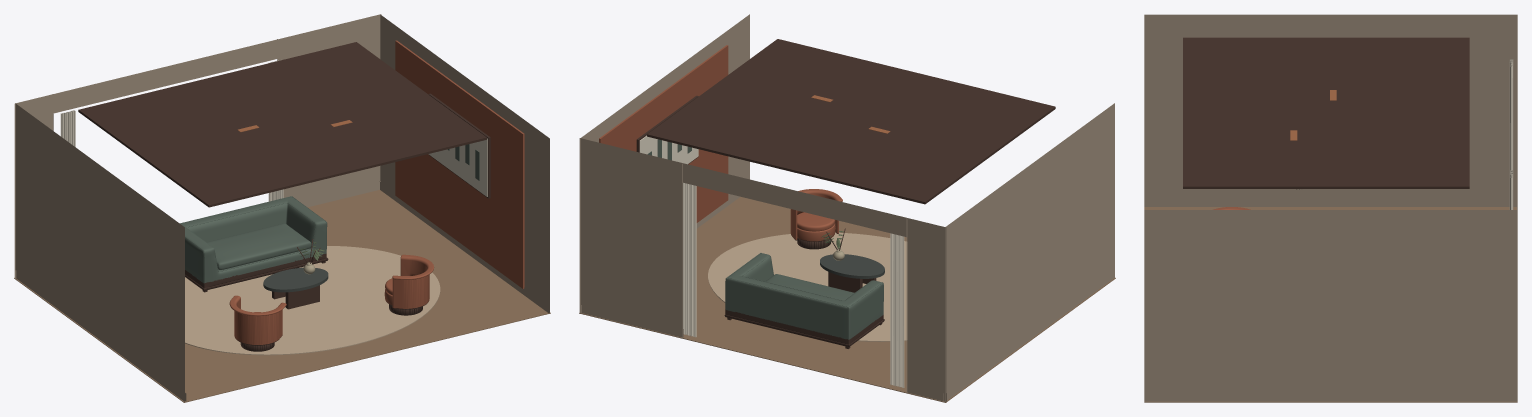
The model's file is great-2.glb.
The picture shows the model from 3 angles, left to right: view 1: azimuth 30°, elevation 25°; view 2: azimuth 150°, elevation 25°; view 3: azimuth 270°, elevation 25°; orthographic projection. The views are drawn at different scales.
Parts seen in each view (by area): view 1: DESIGN | great removable wall finish, DESIGN | Social ceiling field, DESIGN | great floor finish, DESIGN | Great room primary ground, DESIGN | Clay conversation wall, DESIGN | Great room sofa facing conversation, DESIGN | Required Bellustar swivel chair two, DESIGN | Required Bellustar swivel chair one, DESIGN | Textile artwork.001, DESIGN | Great room conversation table top, DESIGN | Great room conversation table trestle, DESIGN | Quiet artwork frame.001 (+1 smaller); view 2: DESIGN | great removable wall finish, DESIGN | Social ceiling field, DESIGN | great floor finish, DESIGN | Great room sofa facing conversation, DESIGN | Great room primary ground, DESIGN | Clay conversation wall, DESIGN | Great room soft window edge, DESIGN | Great room soft window edge.001, DESIGN | Required Bellustar swivel chair two, DESIGN | Great room conversation table top, DESIGN | Textile artwork.001, DESIGN | Great room conversation table trestle.001; view 3: DESIGN | great removable wall finish, DESIGN | Social ceiling field, DESIGN | great floor finish, DESIGN | Great room soft window edge.
Part boxes in pixels (x1,y1,x2,y2): DESIGN | great removable wall finish: (14,14,549,401); DESIGN | Social ceiling field: (78,42,486,207); DESIGN | great floor finish: (14,190,550,402); DESIGN | Great room primary ground: (185,246,440,355); DESIGN | Clay conversation wall: (395,40,524,288); DESIGN | Great room sofa facing conversation: (180,196,328,292); DESIGN | Required Bellustar swivel chair two: (384,254,434,315); DESIGN | Required Bellustar swivel chair one: (229,295,286,351); DESIGN | Textile artwork.001: (428,138,487,196); DESIGN | Great room conversation table top: (263,267,328,292); DESIGN | Great room conversation table trestle: (285,285,319,309); DESIGN | Quiet artwork frame.001: (428,93,490,198); DESIGN | great removable wall finish: (579,14,1114,401); DESIGN | Social ceiling field: (647,39,1055,204); DESIGN | great floor finish: (579,196,1115,402); DESIGN | Great room sofa facing conversation: (724,253,884,348); DESIGN | Great room primary ground: (708,232,907,341); DESIGN | Clay conversation wall: (599,45,728,222); DESIGN | Great room soft window edge: (890,233,904,387); DESIGN | Great room soft window edge.001: (683,182,696,337); DESIGN | Required Bellustar swivel chair two: (790,189,842,249); DESIGN | Great room conversation table top: (820,254,884,278); DESIGN | Textile artwork.001: (639,135,698,164); DESIGN | Great room conversation table trestle.001: (828,272,862,292); DESIGN | great removable wall finish: (1144,14,1517,401); DESIGN | Social ceiling field: (1183,37,1469,188); DESIGN | great floor finish: (1144,207,1517,402); DESIGN | Great room soft window edge: (1509,59,1513,170).
Bounding box in the file's own units: 6 × 2.74 × 4.82.
